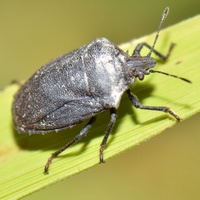insect: (13, 38, 154, 132), (134, 16, 199, 118), (106, 110, 174, 156)
